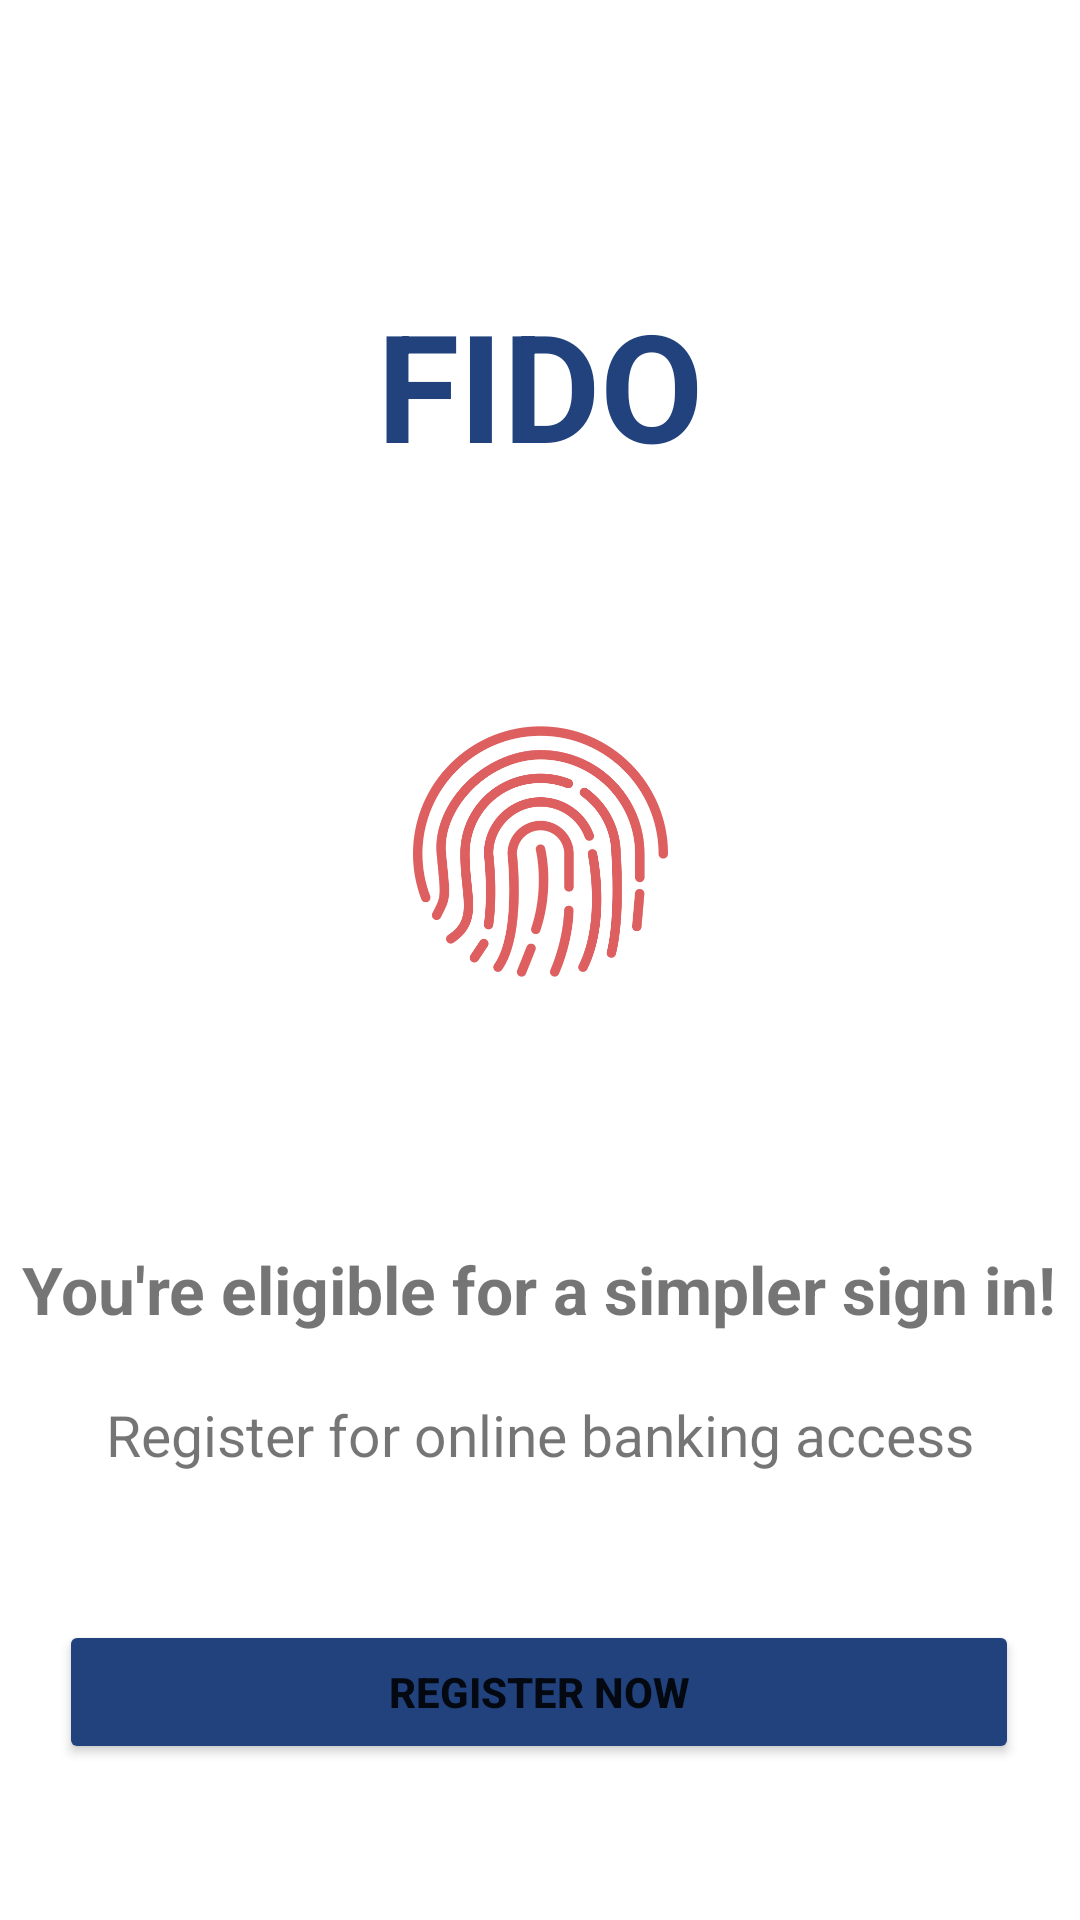

Where to tap for icons on this 1080*1920 app screen, as (x=x, y=y):
fingerprint: (x=540, y=851)
